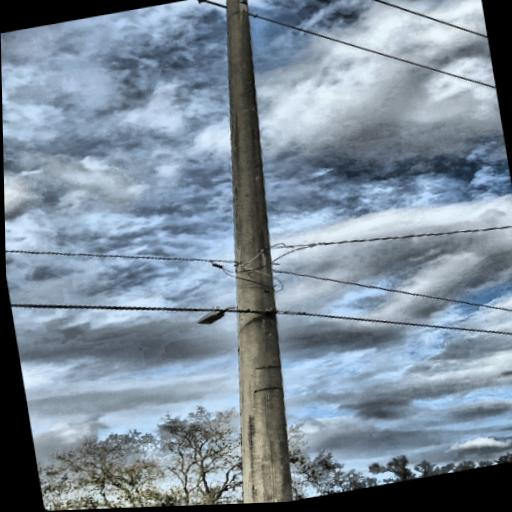pole: (133, 0, 352, 507)
street light: (194, 299, 251, 329)
